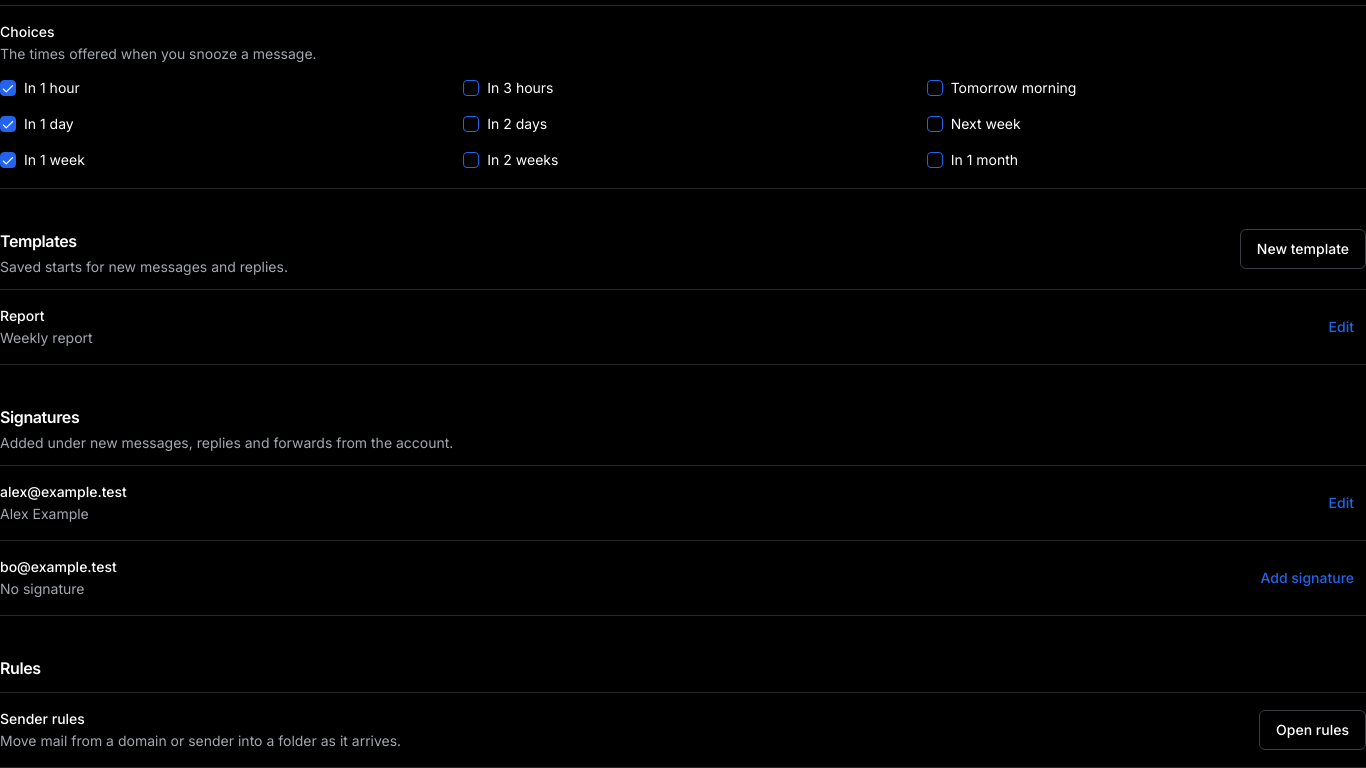
mail settings › saves a signature as rich text with its plain version and shows it in the account row
The image size is (1366, 768).
(page scrolled)
Click the button "Add signature" at (1307, 578), box [1248,560,1365,596]
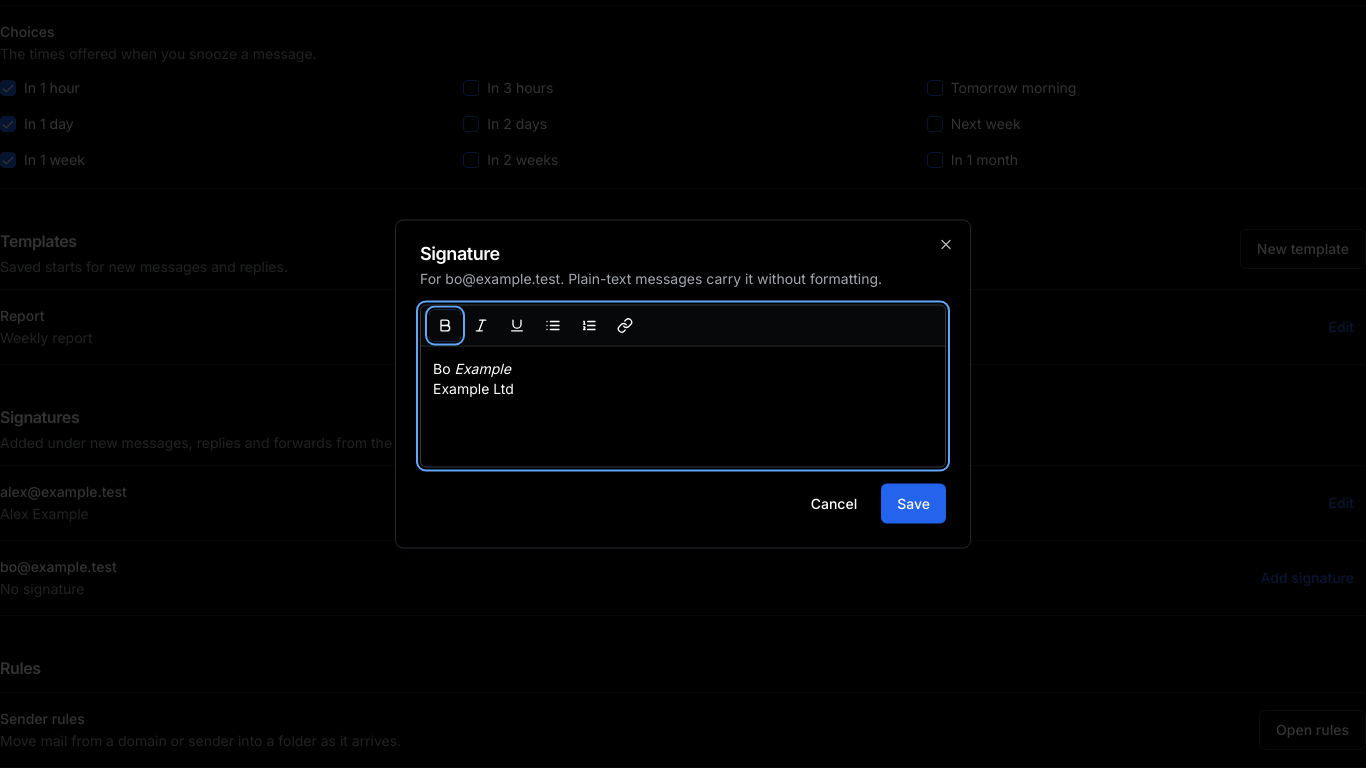
Click the button "Save" at (914, 504), box [881,484,946,524]
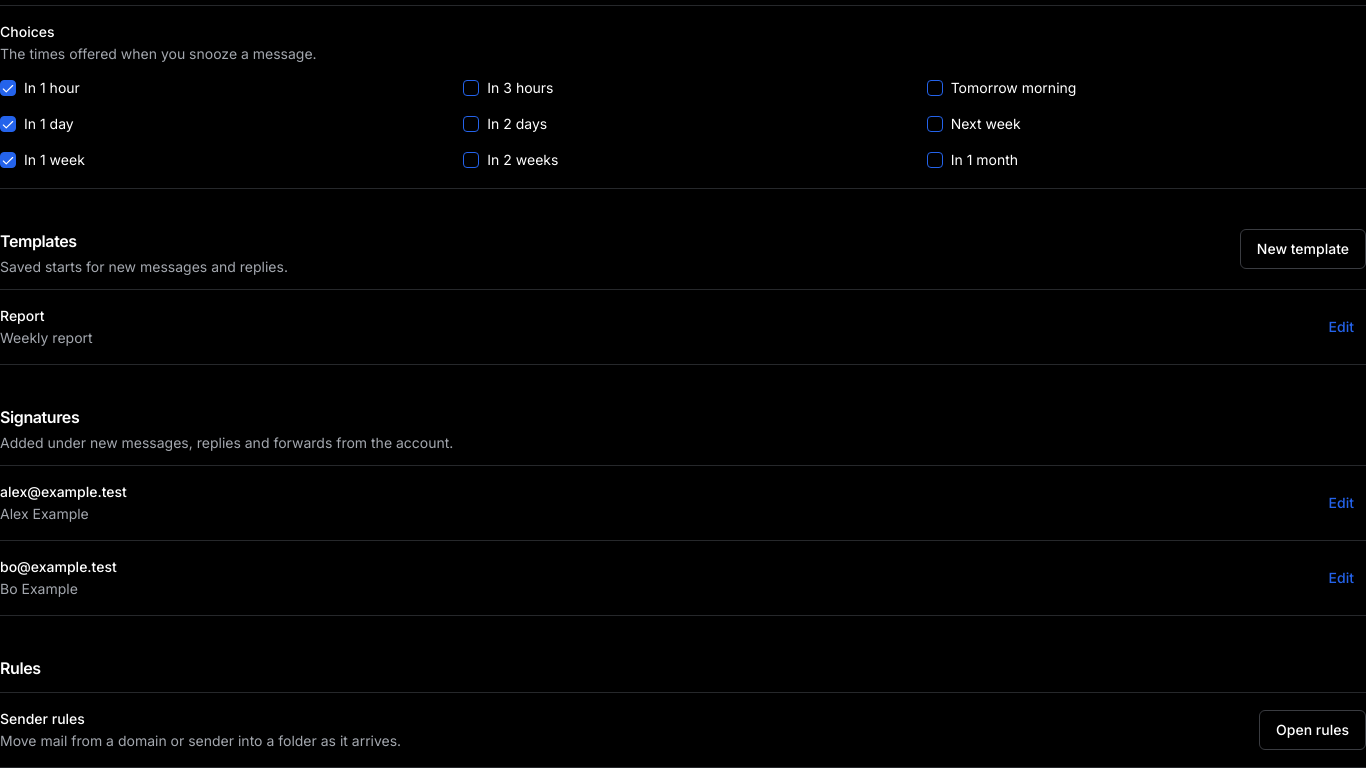
Now the text "Bo Example" is shown, box [0,580,78,597]
Now the dialog is gone
Now the button "Edit" in the row of "bo@example.test" is shown, box [1317,560,1365,596]
